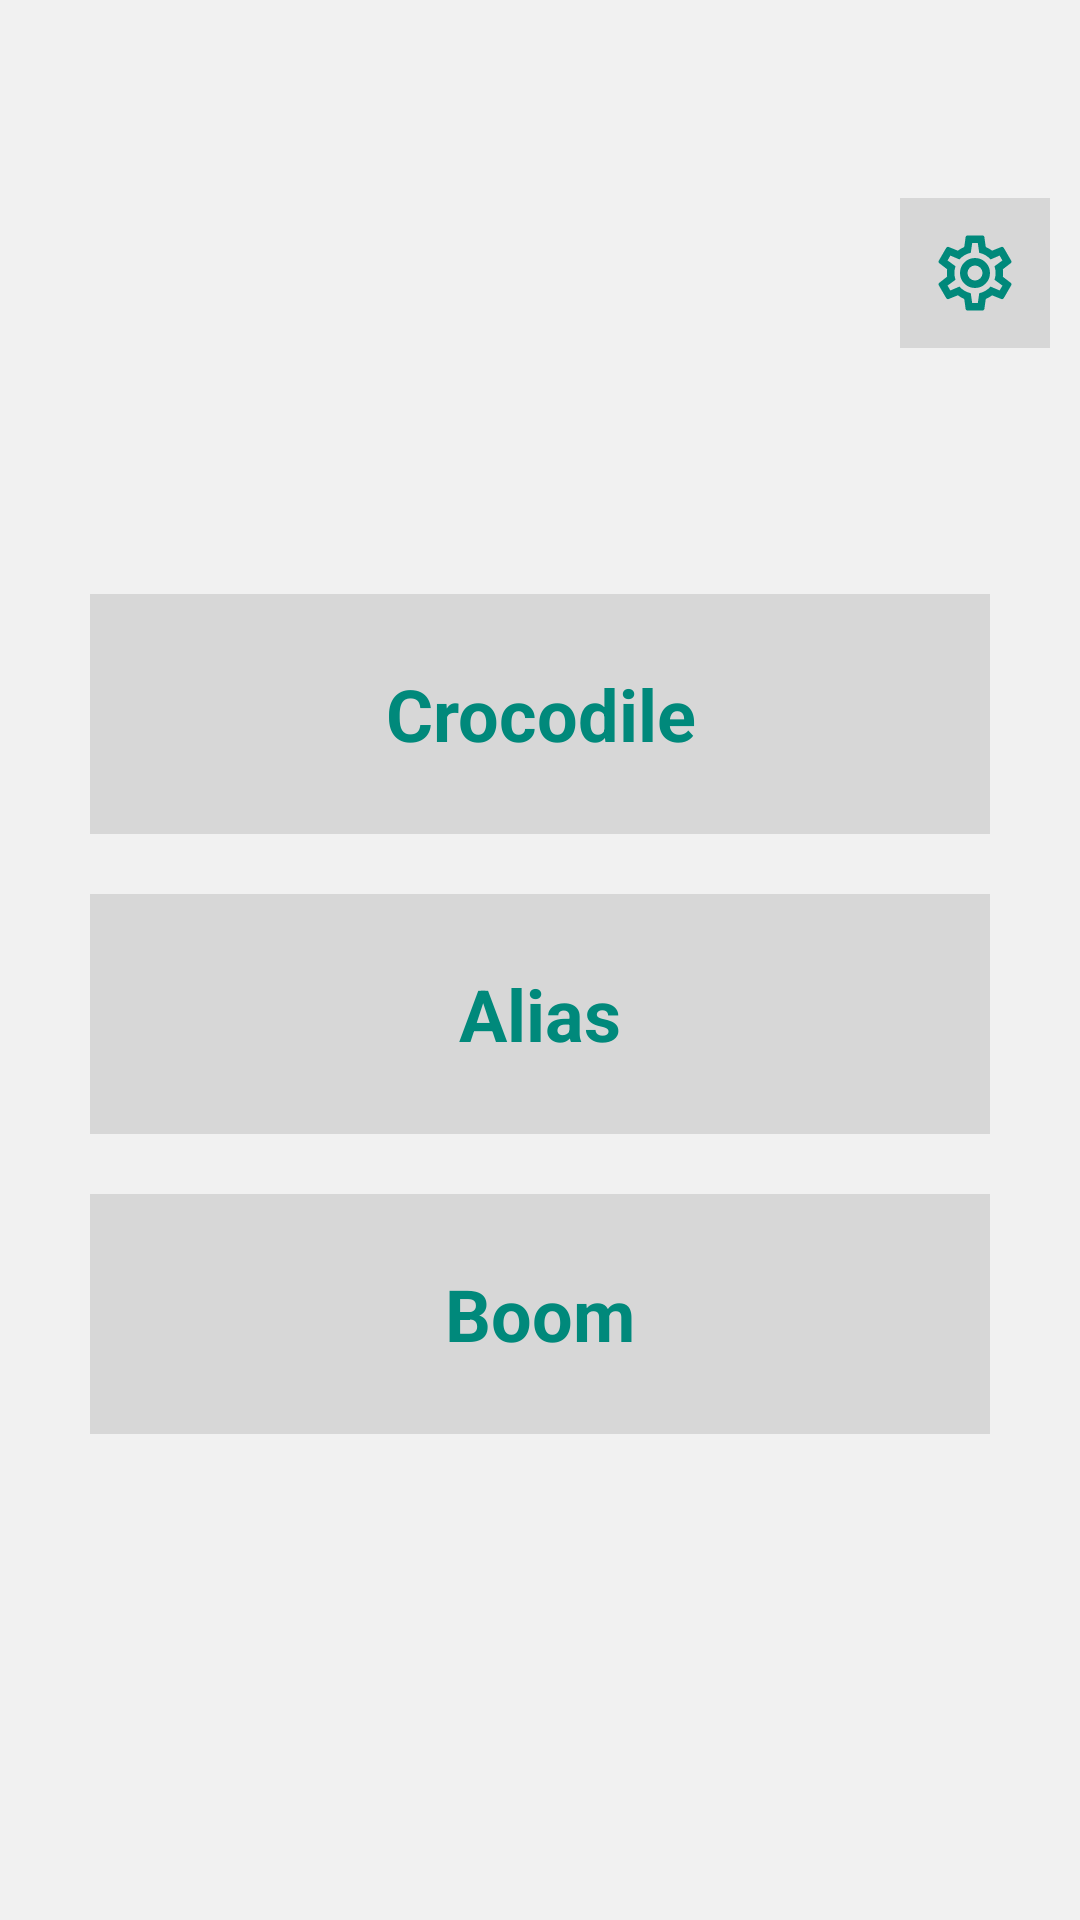

Icon bounding boxes for this 1080 x 1920 phone screenshot, format (x1, y1, x2, y2):
settings: (938, 235, 1012, 311)
